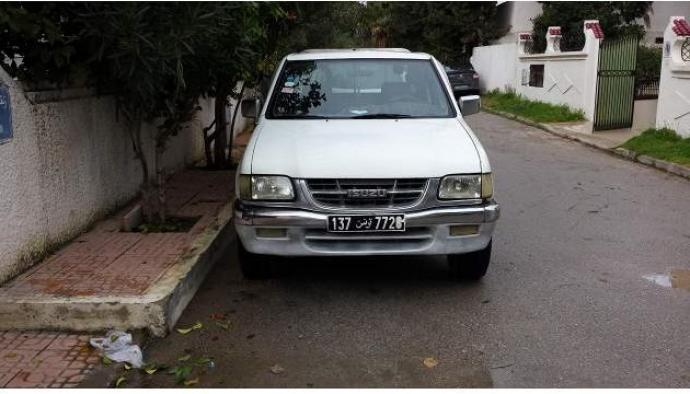LP: (325, 212, 407, 235)
